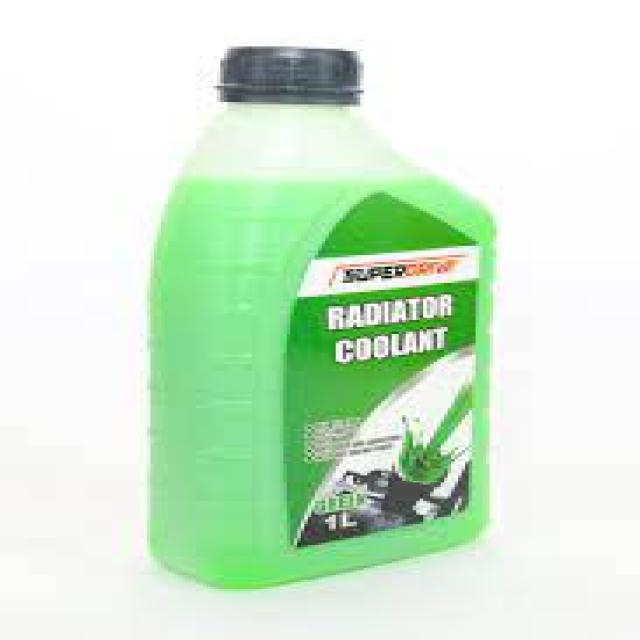coolant: (145, 38, 535, 598)
